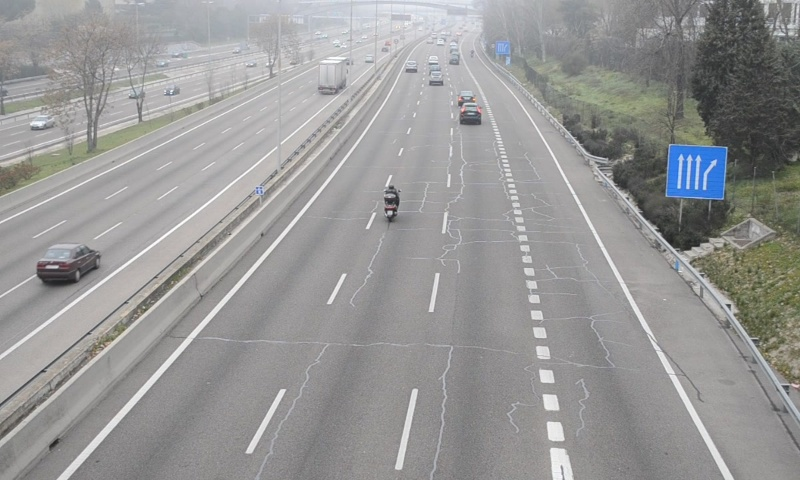car: (459, 102, 482, 124), (458, 90, 476, 104)
motorcycle: (382, 183, 400, 223)
